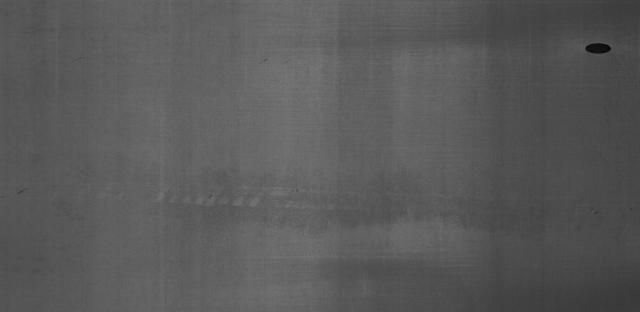punching_hole: (580, 40, 616, 58)
